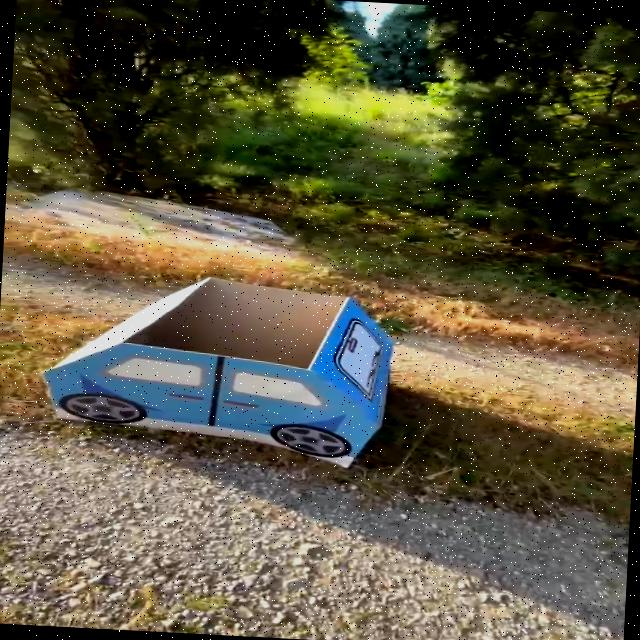blue_car: (0, 228, 459, 507)
